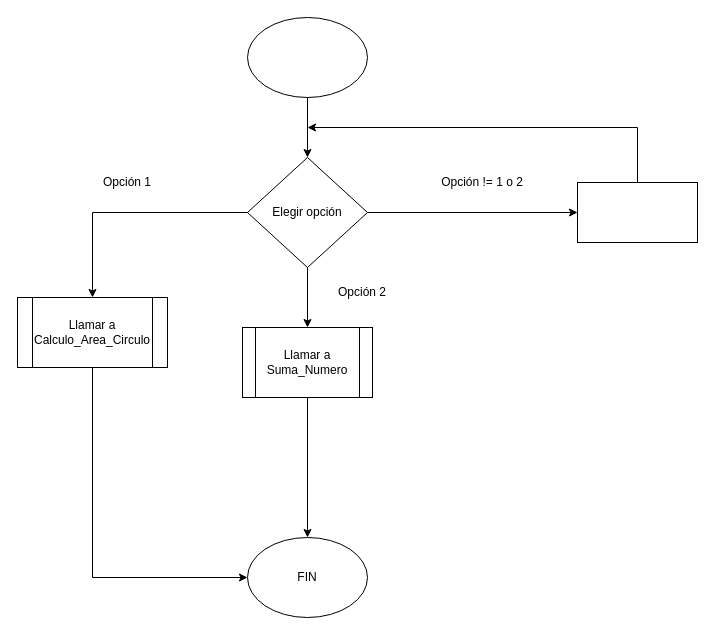
Image size: 715x635. Some labels were removed from this diagram. The centre of each missing label's shape, as x and y in pixels:
"INICIO" goes at point 307,57.
"Volver al menú" goes at point 637,212.
